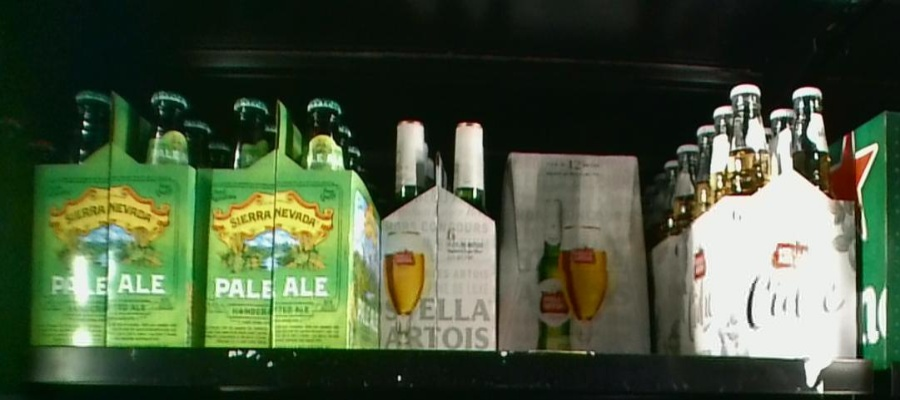bottle: (207, 83, 381, 347), (32, 83, 203, 350), (708, 81, 857, 358), (500, 150, 658, 356), (385, 119, 498, 351)
